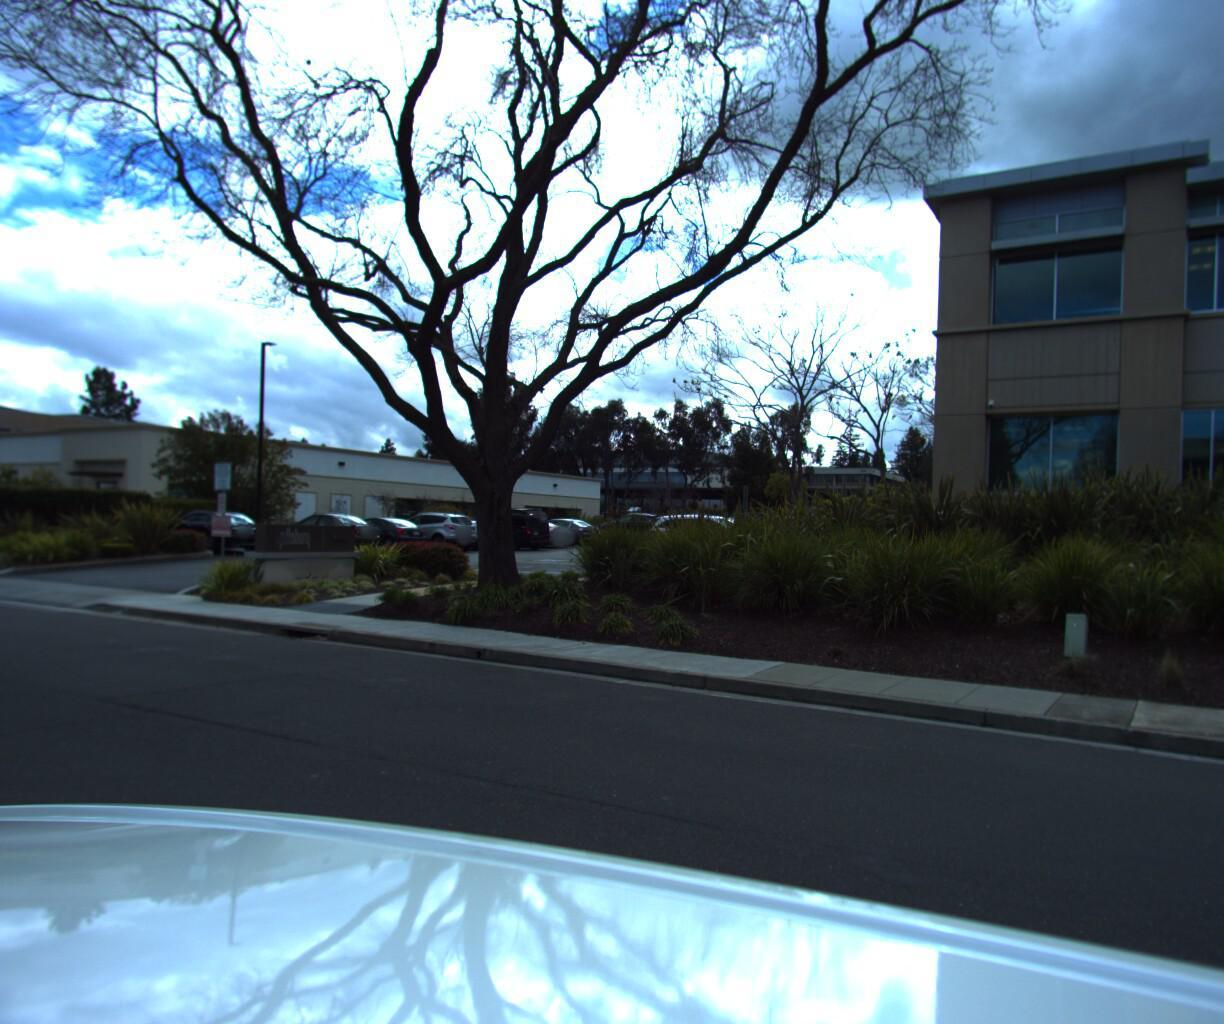car: (141, 509, 273, 559)
